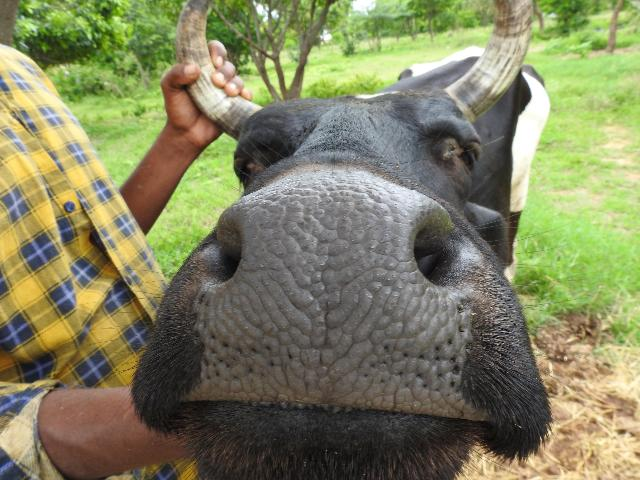Muzzle: (240, 190, 418, 412)
